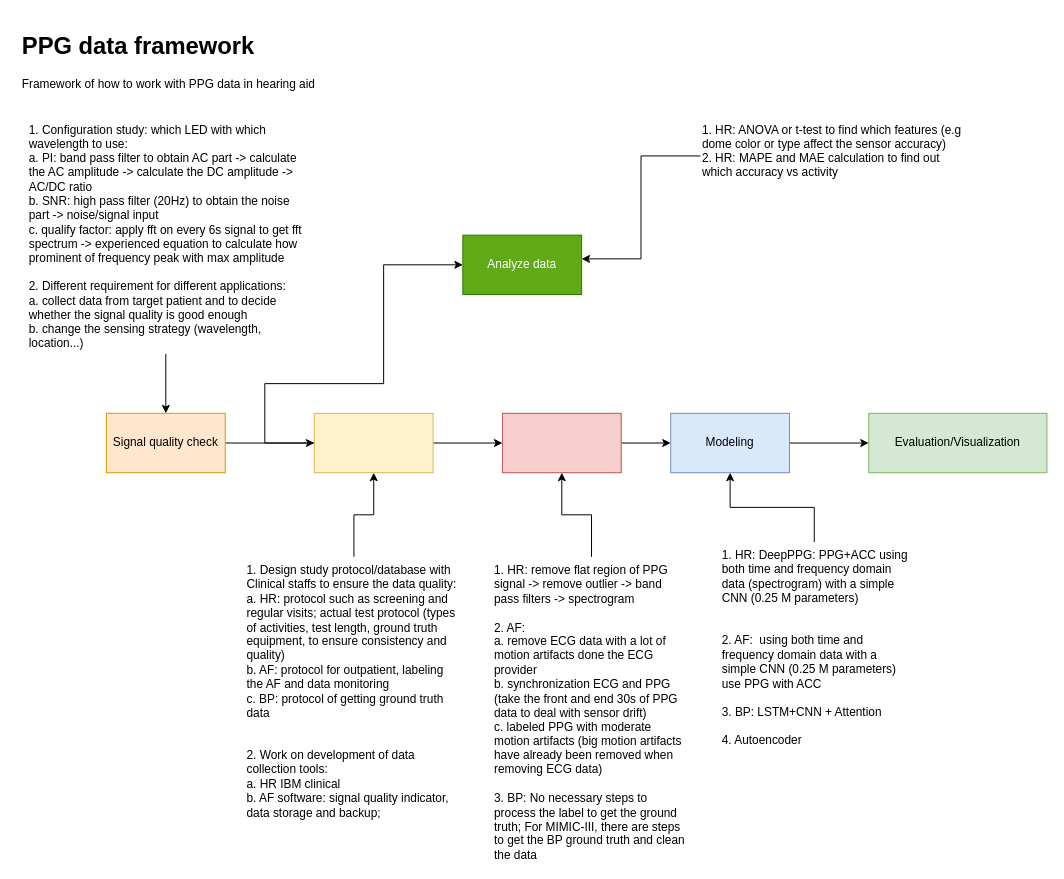
This 1064x879 diagram has some shape labels left out. Each missing label, with the centre of its shape:
"Clean data" belongs at (561,442).
"Collect data" belongs at (373,442).
